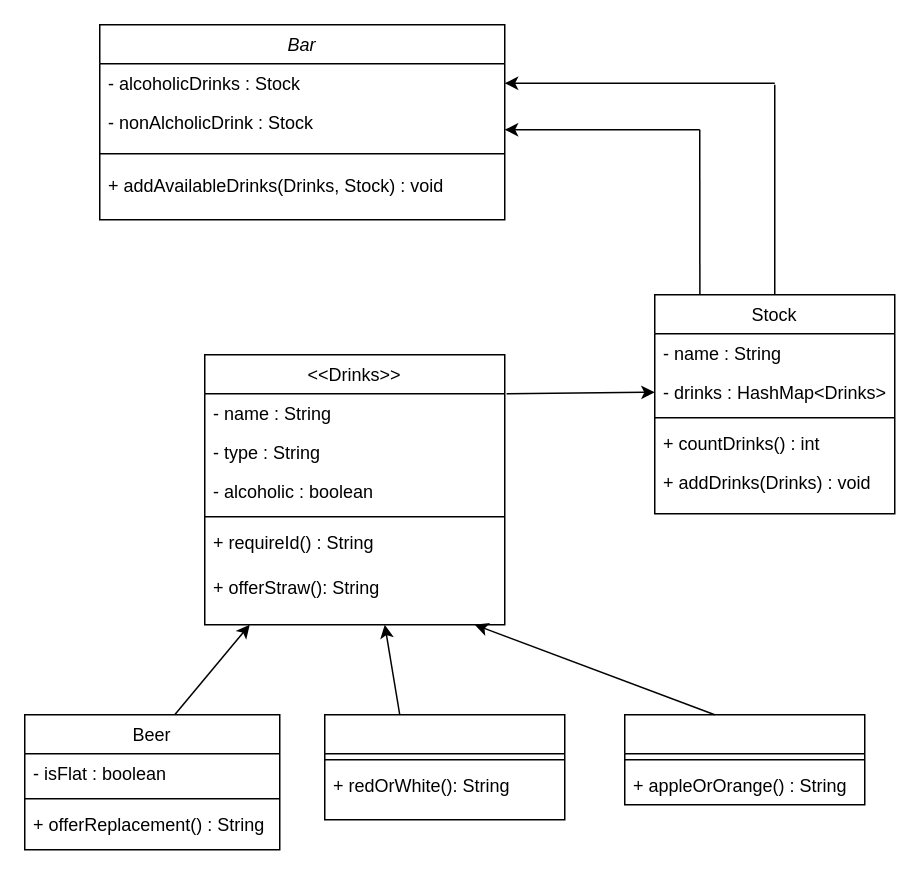
Image size: 920x875. Some labels were removed from this diagram. Here are the shapes that lost their labels. From the top down, the box of each, then its label:
(323, 713, 565, 820): Wine
(623, 713, 865, 805): Juice
